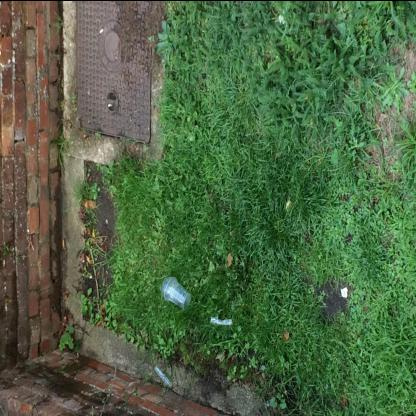plastik: (161, 275, 191, 309)
